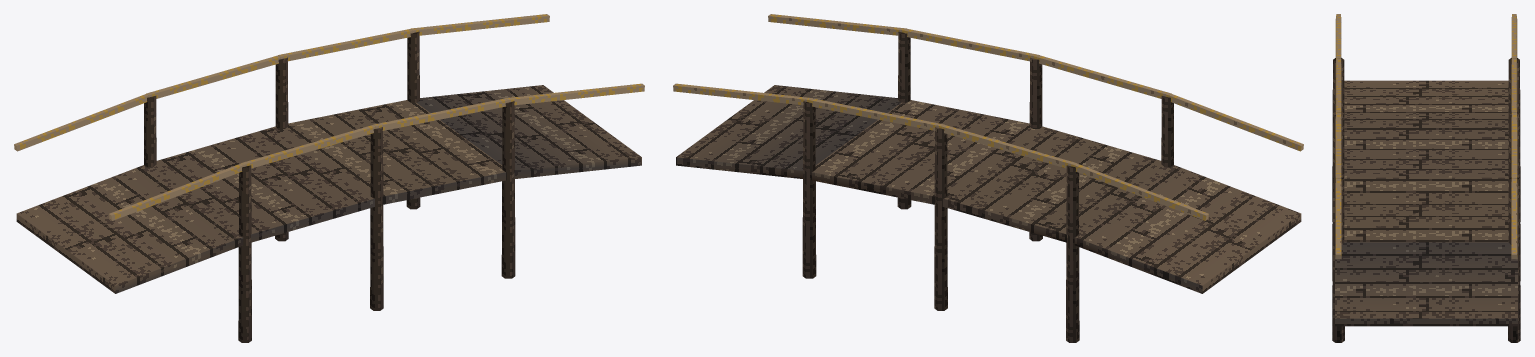
File: vlg.bridge__timber.glb
3 renders of one model, left to right at view 1: azimuth 30°, elevation 25°; view 2: azimuth 150°, elevation 25°; view 3: azimuth 270°, elevation 25°, orthographic. The views are drawn at different scales.
Visible parts, largest first — view 1: kit_deck, kit_rail; view 2: kit_deck, kit_rail; view 3: kit_deck, kit_rail.
Boxes of the visible parts, left/top/right/bottom form: kit_deck: left=16, top=85, right=641, bottom=293; kit_rail: left=14, top=14, right=644, bottom=342; kit_deck: left=676, top=85, right=1301, bottom=293; kit_rail: left=673, top=14, right=1303, bottom=342; kit_deck: left=1335, top=80, right=1517, bottom=326; kit_rail: left=1332, top=14, right=1520, bottom=342.
Bounding box in the file's own units: 8.1 × 2.66 × 2.68.
3 materials, 3 textured.
